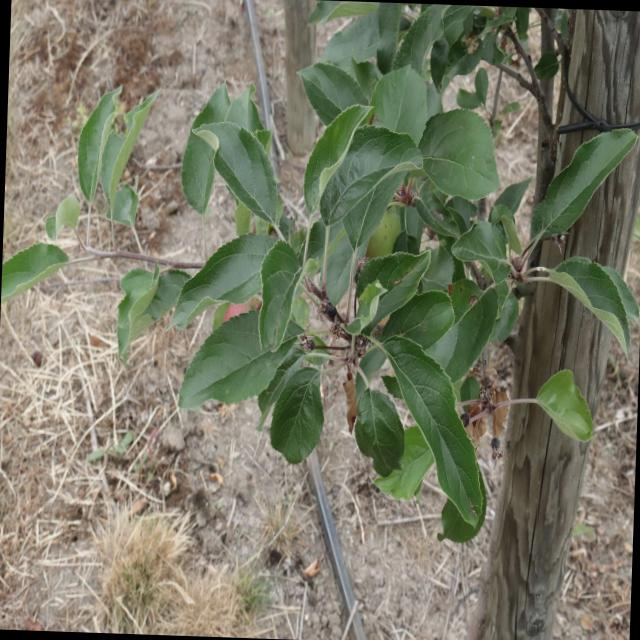-FireBlight-: (466, 364, 510, 444)
